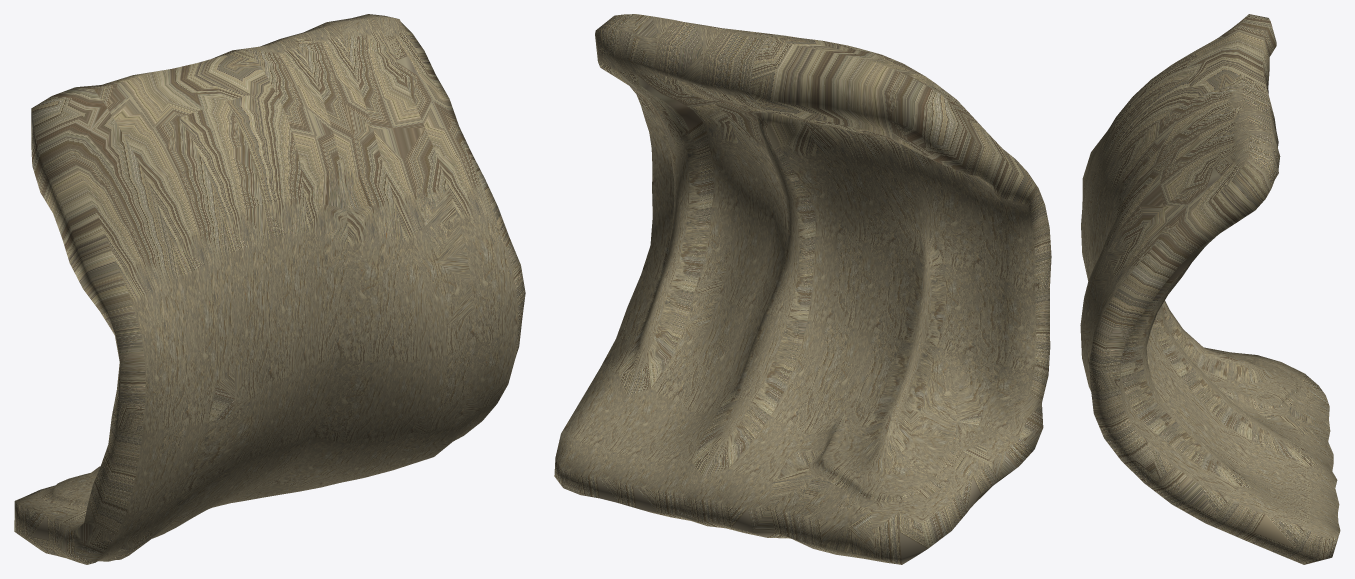
The model's file is saltmine_side_02.dae.
3 renders of one model, left to right at view 1: azimuth 30°, elevation 25°; view 2: azimuth 150°, elevation 25°; view 3: azimuth 270°, elevation 25°, orthographic. The views are drawn at different scales.
Parts seen in each view (by area): view 1: side_ribbed_02; view 2: side_ribbed_02; view 3: side_ribbed_02.
Boxes of the visible parts, bbox=[...] form: side_ribbed_02: bbox=[14, 14, 525, 564]; side_ribbed_02: bbox=[554, 14, 1051, 564]; side_ribbed_02: bbox=[1080, 14, 1340, 564].
Size of the model in its own units: 9.36 by 10.33 by 5.78.
